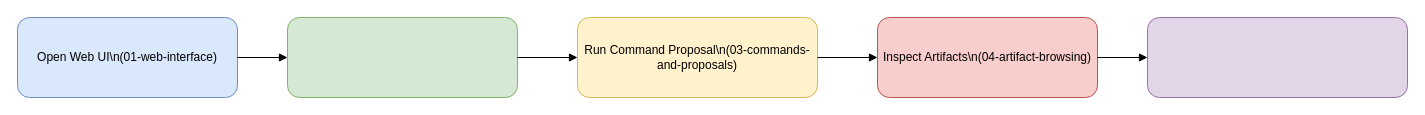
This 1425x115 diagram has some shape labels left out. The shapes that lost their labels are listed below. From the top down, each one's centre as x and y in pixels, then its label:
At [402,57]: "Create or Select Project\n(02-project-creation)".
At [1277,57]: "Control Workflow State\n(05-workflow-states via API)".
